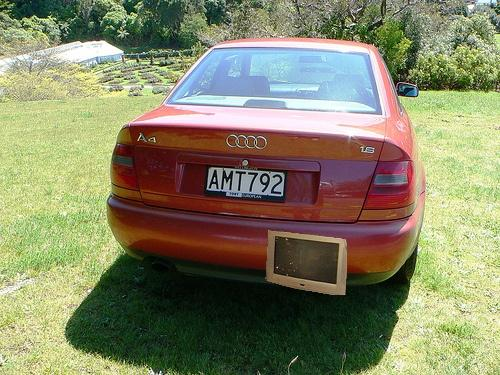tampered: (266, 231, 347, 295)
